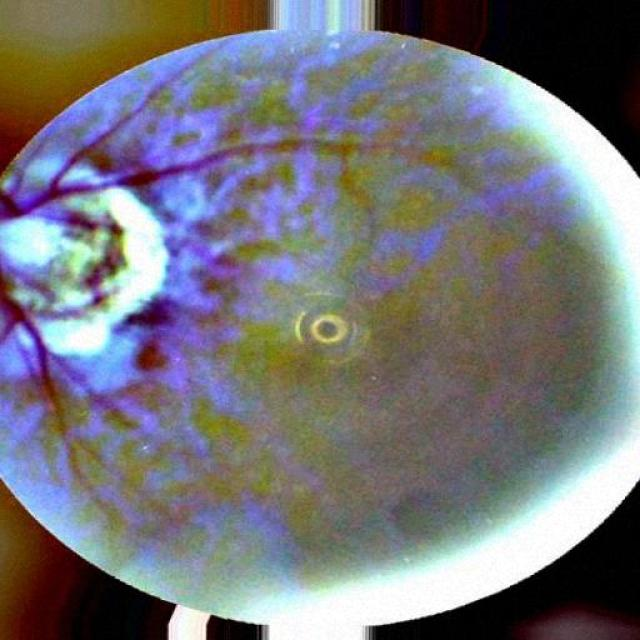Nerves: (7, 47, 397, 224), (0, 278, 71, 442)
Optic Disk: (0, 188, 135, 310)
